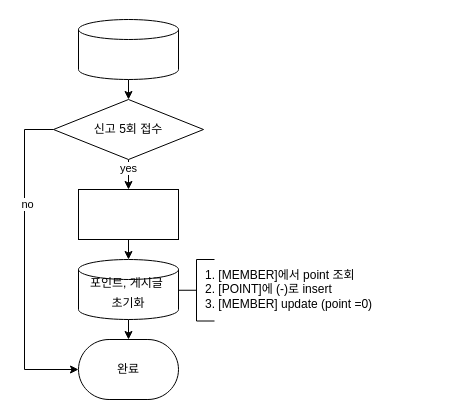
Image size: 476x417. Some labels were removed from this diagram. Here are the shapes that lost their labels. From the top down, the box of each, then its label:
(78, 18, 178, 80): 회원테이블 조회
(78, 188, 178, 240): 블랙리스트 등록
